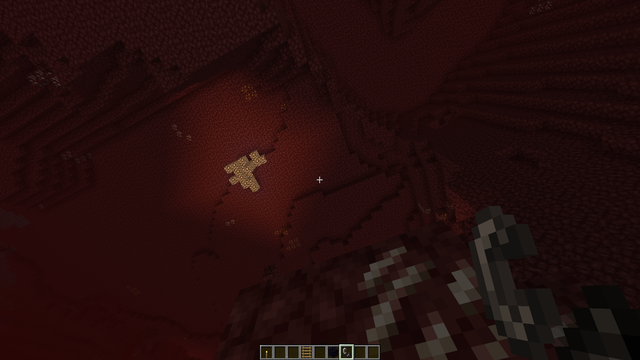nethergold: (239, 80, 260, 105)
quartz: (334, 229, 518, 360), (23, 66, 67, 94)
